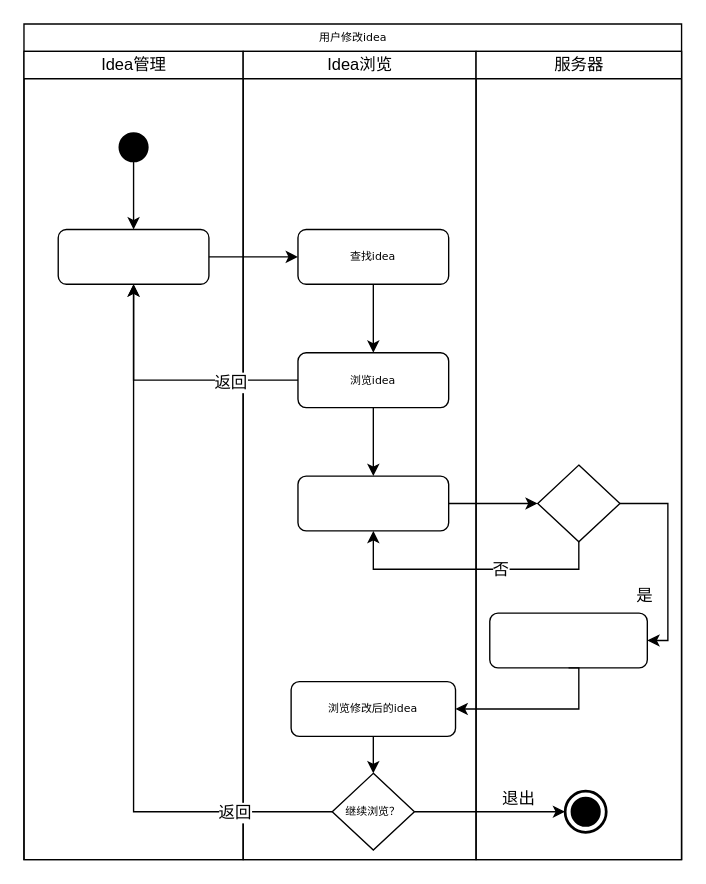
Image size: 706x884. Some labels were removed from this diagram. Here are the shapes that lost their labels. From the top down, the centre of each, then its label:
(x=133, y=256): 我的idea
(x=373, y=503): 修改idea
(x=578, y=503): 确认保存修改？
(x=567, y=640): 数据保存
